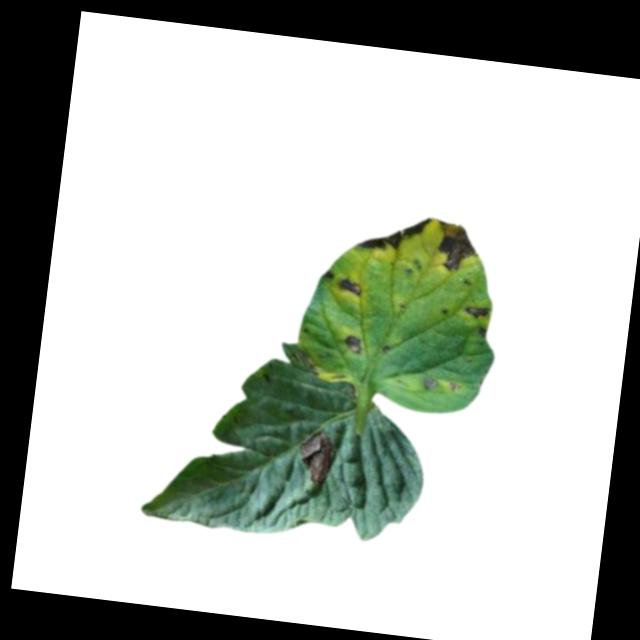Early_blight: (356, 210, 434, 258), (294, 427, 340, 488), (436, 220, 481, 276), (337, 276, 364, 299), (341, 333, 366, 355), (464, 304, 490, 321), (478, 326, 489, 340), (322, 269, 334, 281)
